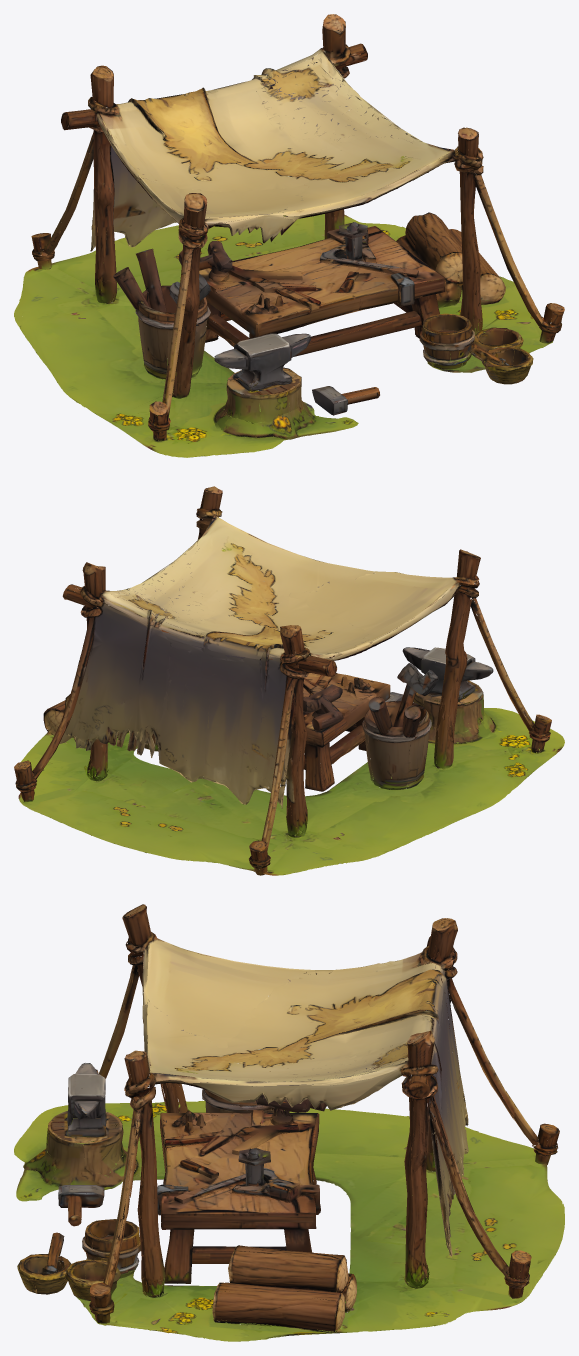
Rendered from Camp.fbx.
The picture shows the model from 3 angles, top to bottom: view 1: azimuth 30°, elevation 25°; view 2: azimuth 150°, elevation 25°; view 3: azimuth 270°, elevation 25°; orthographic projection. The views are drawn at different scales.
Visible parts, largest first — view 1: node_0; view 2: node_0; view 3: node_0.
Boxes of the visible parts, x1,y1,x2,y2 form: node_0: [14, 14, 564, 457]; node_0: [14, 486, 564, 875]; node_0: [14, 904, 564, 1341].
Bounding box in the file's own units: 200 × 99.97 × 193.
1 material, 1 textured.
